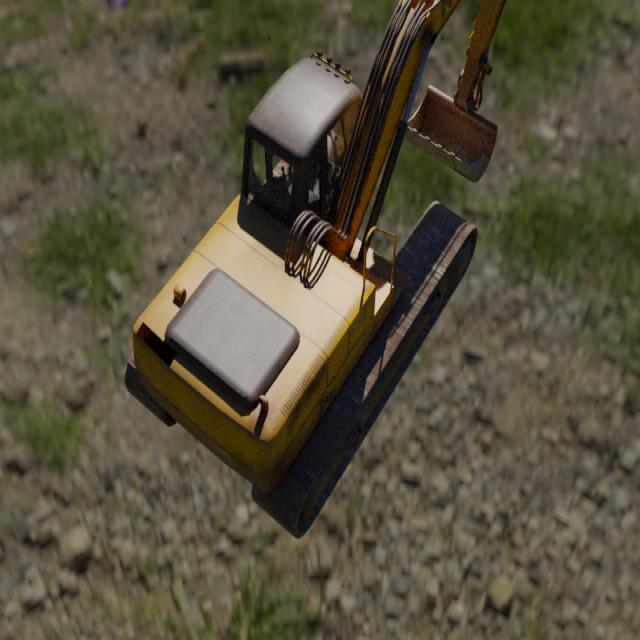excavator: (124, 0, 506, 540)
